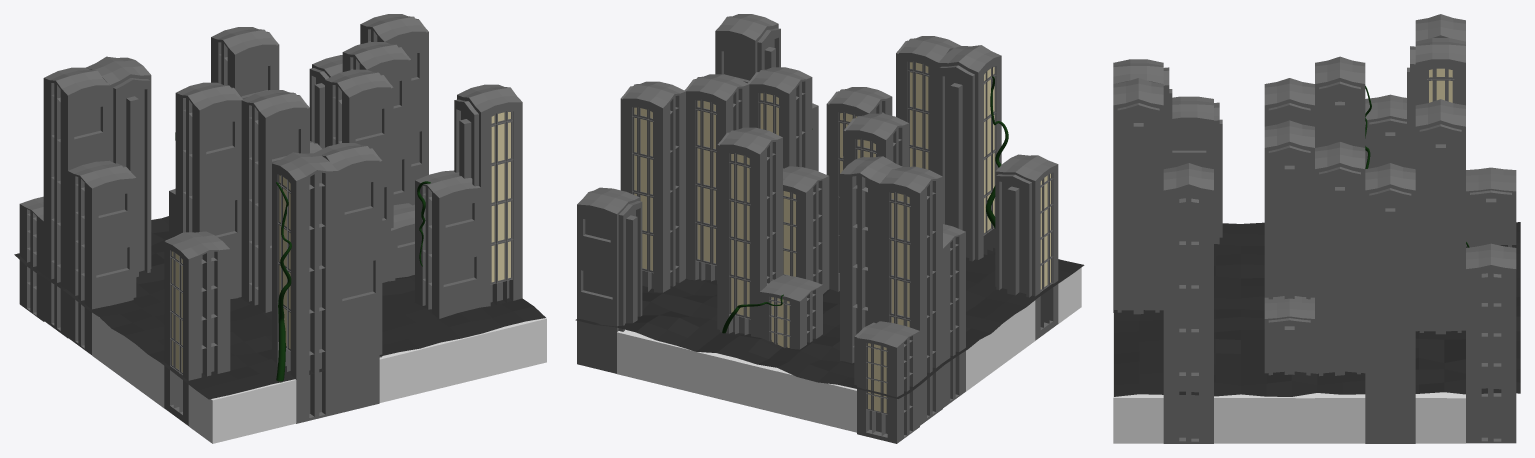
The model's file is levelOne-04.fbx.
3 views of the same model, side by side, from view 1: azimuth 30°, elevation 25°; view 2: azimuth 150°, elevation 25°; view 3: azimuth 270°, elevation 25° (orthographic). The views are drawn at different scales.
Parts seen in each view (by area): view 1: Floor, Cube.019, Cube.027, Cube.023, Cube.008, Cube.009, Cube.004, Cube.060, Cube.030, Cube.052, Cube.017, Cube.046 (+19 smaller); view 2: Floor, Cube.009, Cube.041, Cube.019, Cube.066, Cube.064, Cube.004, Cube.017, Cube.055, Cube.010, Cube.039, Cube.046 (+27 smaller); view 3: Floor, Cube.064, Cube.060, Cube.027, Cube.041, Cube.055, Cube.066, Cube.046, Cube.023, Cube.004, Cube.010, Cube.054 (+11 smaller).
Part boxes in pixels (<box>): Floor: <box>14,216,545,399</box>; Cube.019: <box>272,152,337,423</box>; Cube.027: <box>314,143,382,413</box>; Cube.023: <box>175,82,242,298</box>; Cube.008: <box>68,160,136,354</box>; Cube.009: <box>43,67,109,338</box>; Cube.004: <box>164,231,230,425</box>; Cube.060: <box>454,84,522,307</box>; Cube.030: <box>241,90,309,312</box>; Cube.052: <box>415,170,480,318</box>; Cube.017: <box>86,56,151,277</box>; Cube.046: <box>325,69,393,282</box>; Floor: <box>575,247,1084,398</box>; Cube.009: <box>880,166,942,425</box>; Cube.041: <box>717,127,782,337</box>; Cube.019: <box>938,45,1001,261</box>; Cube.066: <box>577,187,642,373</box>; Cube.064: <box>620,81,685,292</box>; Cube.004: <box>995,154,1058,340</box>; Cube.017: <box>840,156,902,363</box>; Cube.055: <box>684,74,749,283</box>; Cube.010: <box>854,321,919,443</box>; Cube.039: <box>783,166,829,293</box>; Cube.046: <box>747,67,812,169</box>; Floor: <box>1114,222,1520,396</box>; Cube.064: <box>1365,163,1415,443</box>; Cube.060: <box>1163,163,1213,443</box>; Cube.027: <box>1113,78,1163,314</box>; Cube.041: <box>1415,99,1465,334</box>; Cube.055: <box>1315,142,1365,376</box>; Cube.066: <box>1466,243,1516,443</box>; Cube.046: <box>1264,120,1314,299</box>; Cube.023: <box>1315,56,1365,147</box>; Cube.004: <box>1172,96,1222,244</box>; Cube.010: <box>1466,167,1516,247</box>; Cube.054: <box>1264,296,1314,375</box>.
Size of the model in its own units: 1651 by 1149 by 1617.
